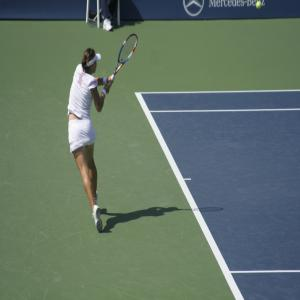TennisBall: (257, 2, 263, 10)
